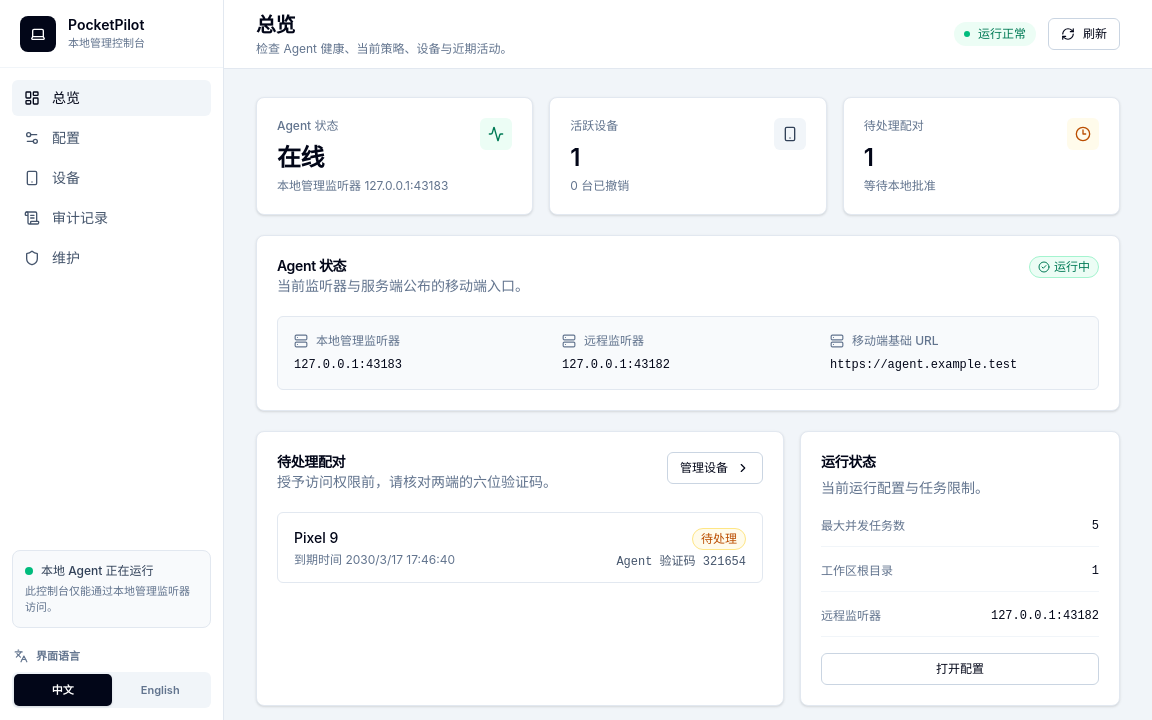
Test: App › sends both configuration writes with the CSRF token
Check: the text "127.0.0.1:43183" is shown, box [294,358,402,372]
Click the button "配置": {"x": 112, "y": 138} [12,120,211,156]
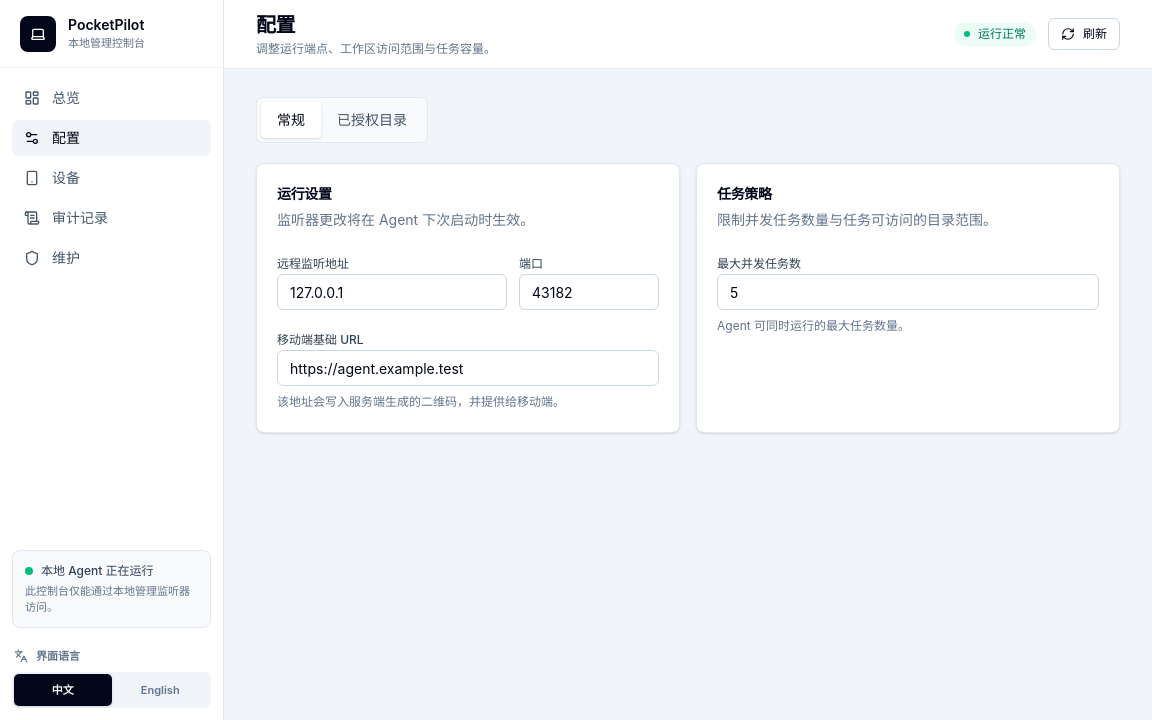
Replace the text in the field showing "https://agent.example.test" with "https://updated.example.test": {"x": 468, "y": 368} [277,350,659,386]
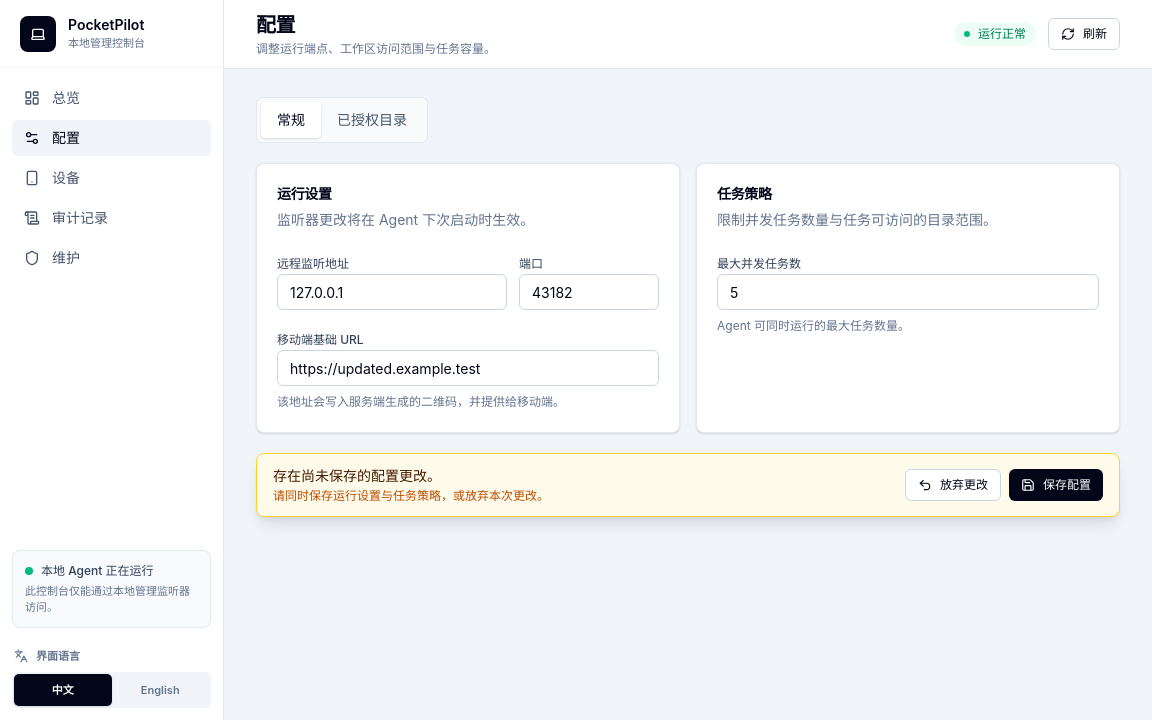
Click the button "保存配置": {"x": 1056, "y": 485} [1009,469,1103,501]
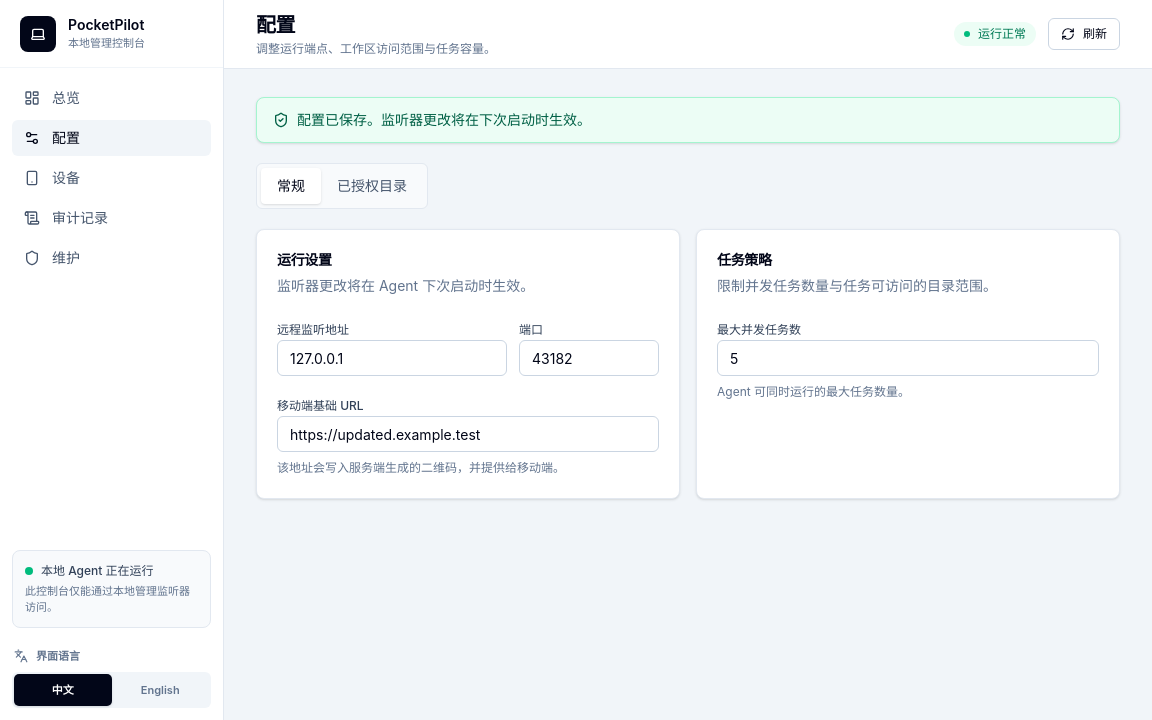
Check: the text "配置已保存。监听器更改将在下次启动时生效。" is shown, box [256,97,1120,143]
Check: the text "存在尚未保存的配置更改。" is gone
Click the button "English": {"x": 160, "y": 690} [112,674,209,706]
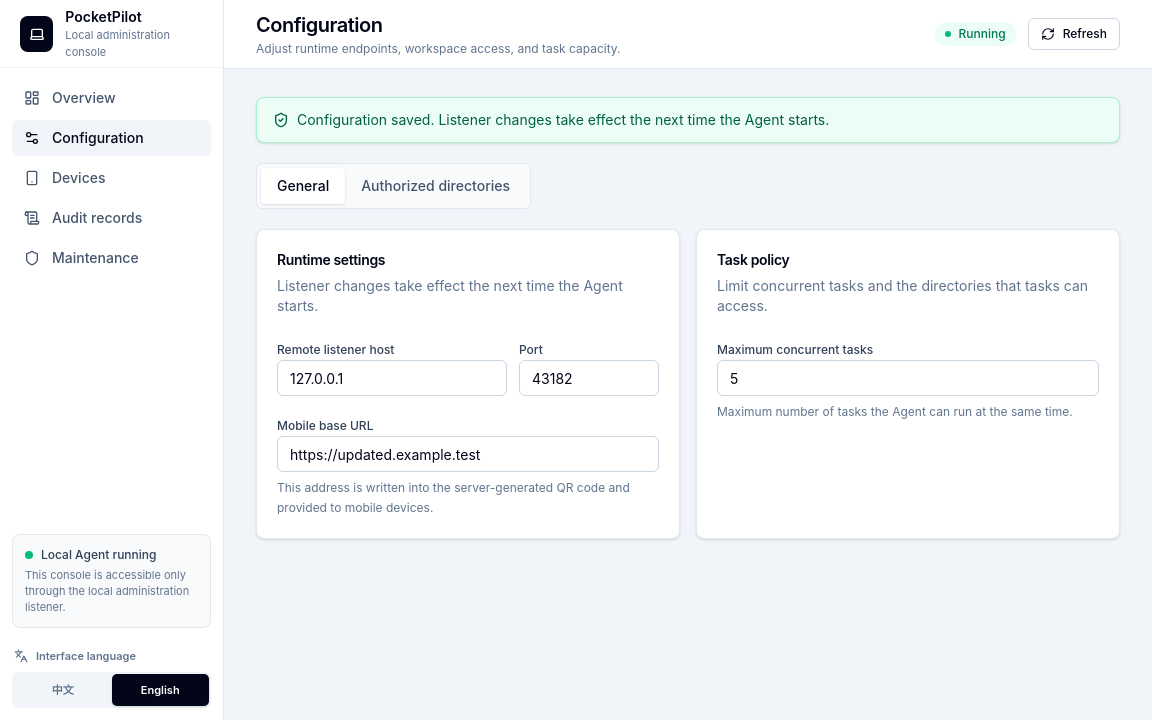
Check: the text "Configuration saved. Listener changes take effect the next time the Agent starts." is shown, box [297,111,829,128]
